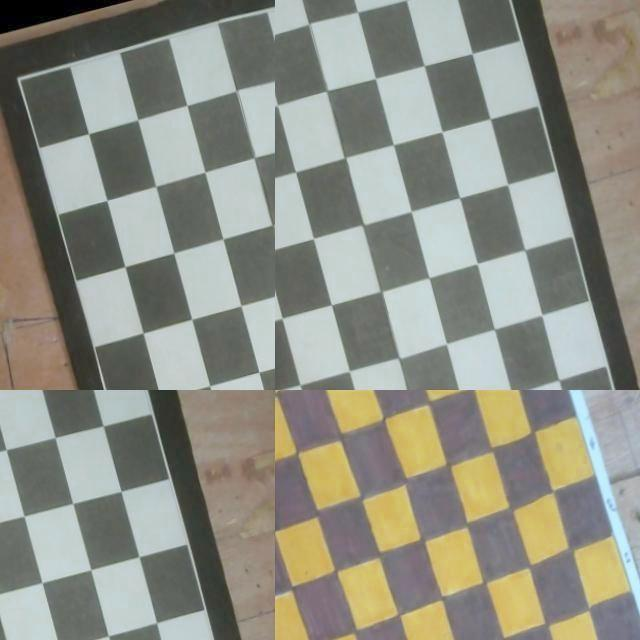chess-table-corners: (0, 443, 4, 455), (275, 5, 279, 16), (130, 390, 138, 395), (18, 77, 24, 83), (481, 0, 491, 3), (275, 390, 278, 394)
